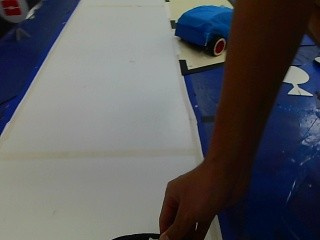car: (170, 3, 230, 59)
company: (0, 0, 33, 30)
